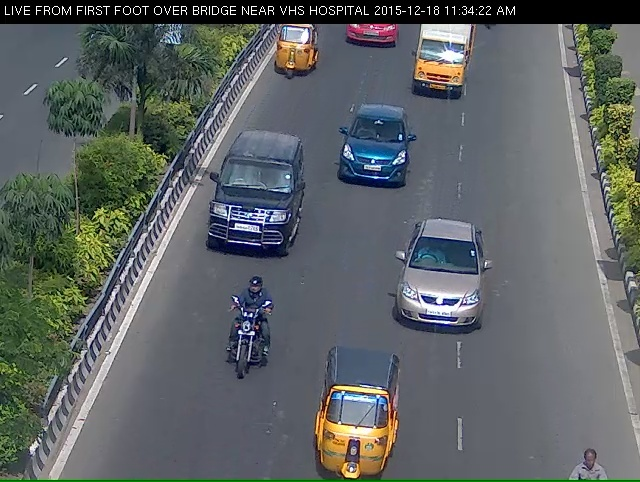Bus: (412, 22, 478, 109)
Car: (384, 231, 504, 358), (199, 149, 297, 285), (316, 370, 402, 482), (328, 117, 418, 210), (262, 26, 319, 91), (344, 20, 399, 60)
Person: (194, 304, 269, 413)
